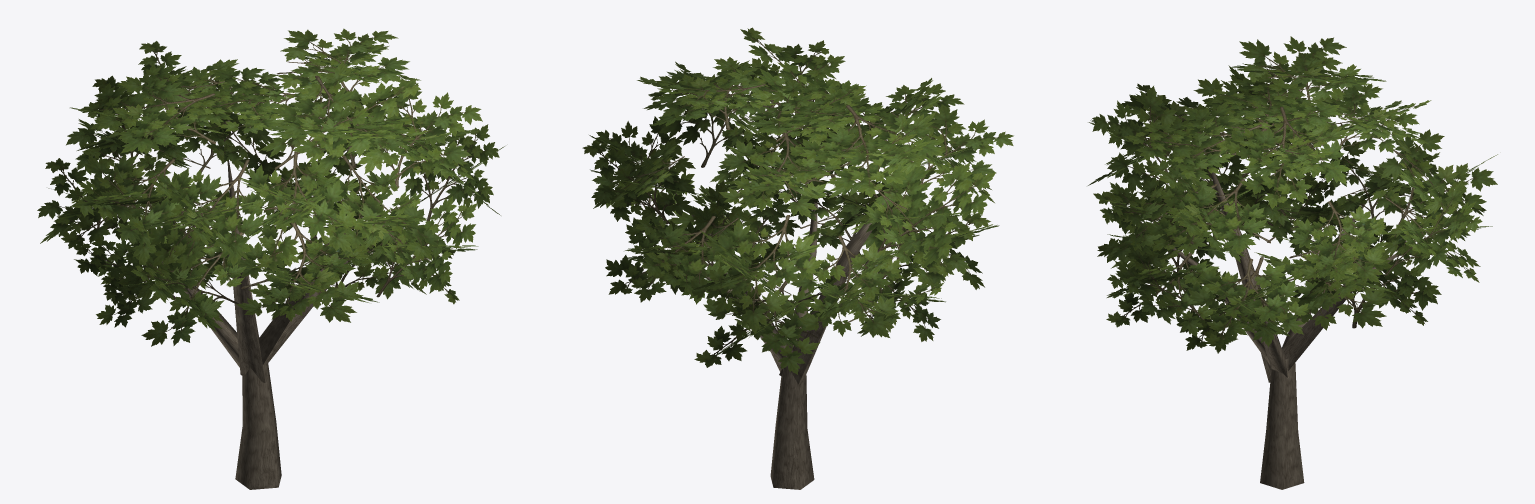
The model's file is maple.glb.
The picture shows the model from 3 angles, left to right: view 1: azimuth 30°, elevation 25°; view 2: azimuth 150°, elevation 25°; view 3: azimuth 270°, elevation 25°; orthographic projection. The views are drawn at different scales.
Parts seen in each view (by area): view 1: maple_foliage, maple_wood; view 2: maple_foliage, maple_wood; view 3: maple_foliage, maple_wood.
Boxes of the visible parts, x1,y1,x2,y2 form: maple_foliage: [37, 28, 504, 346]; maple_wood: [117, 160, 417, 489]; maple_foliage: [582, 27, 1013, 374]; maple_wood: [675, 191, 897, 489]; maple_foliage: [1088, 36, 1497, 353]; maple_wood: [1168, 150, 1409, 489].
Size of the model in its own units: 8.47 by 7.39 by 7.79.
Materials: 2 (2 with a texture image).
